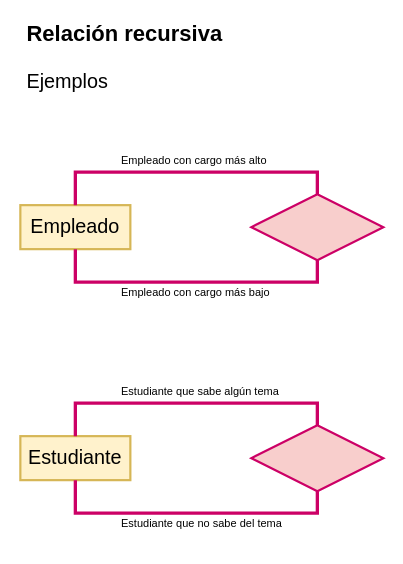
This 403x564 diagram has some shape labels left out. The shapes that lost their labels are listed below. From the top down, each one's centre as x and y in pixels, then its label:
At point (317, 227): "Dirigir".
At point (317, 458): "Apoyar".
